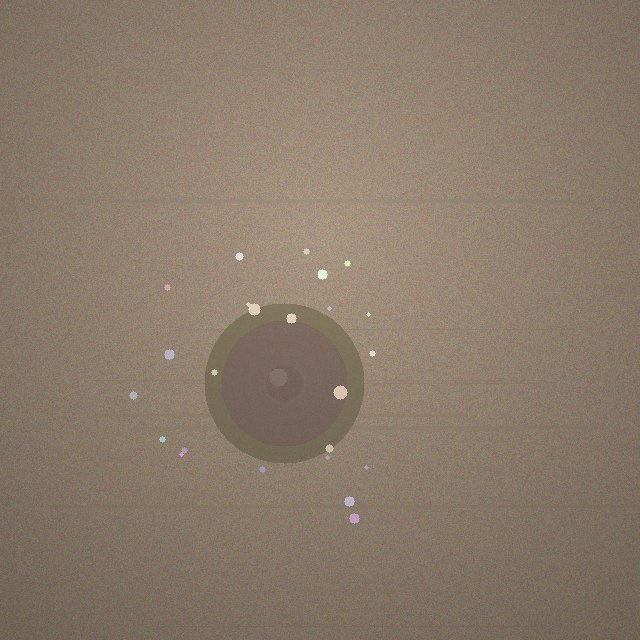overburn: (204, 303, 364, 463)
